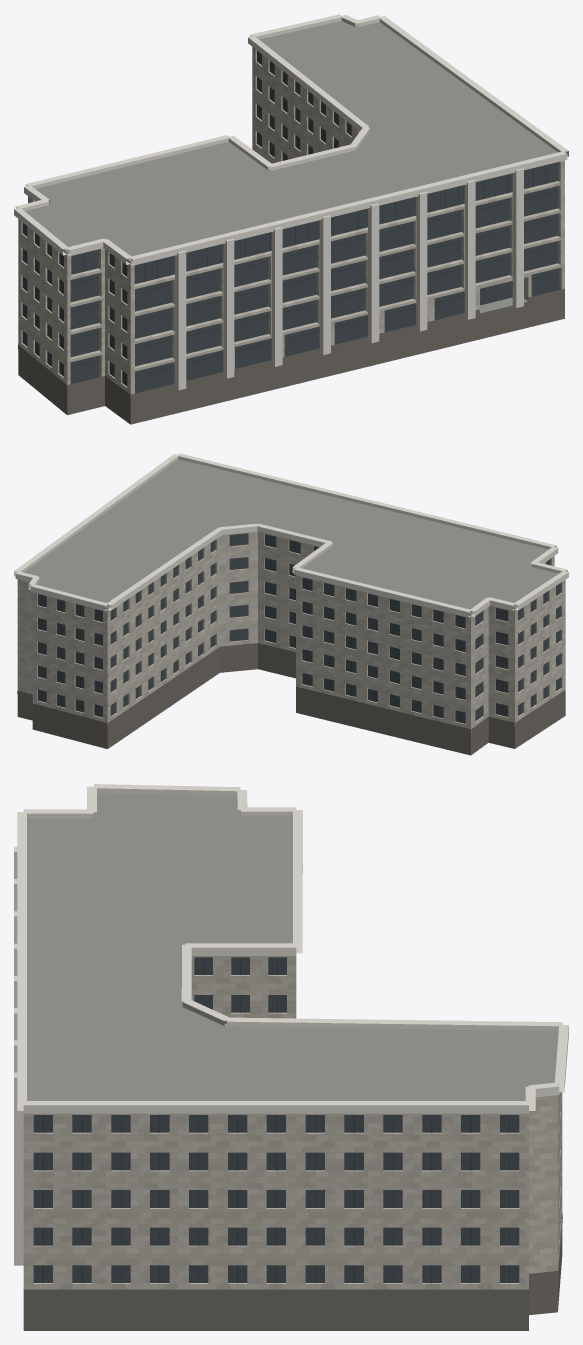
3 renders of one model, top to bottom at view 1: azimuth 30°, elevation 25°; view 2: azimuth 150°, elevation 25°; view 3: azimuth 270°, elevation 25°, orthographic. The views are drawn at different scales.
Visible parts, largest first — view 1: business__roof, business__glass, business__wall, business__trim, business__base, business__frame; view 2: business__wall, business__roof, business__glass, business__base, business__trim, business__frame; view 3: business__roof, business__wall, business__glass, business__trim, business__base, business__frame.
Boxes of the visible parts, x1,y1,x2,y2 form: business__roof: (25,21,557,313); business__glass: (22,51,559,393); business__wall: (18,47,564,398); business__trim: (14,14,568,390); business__base: (18,288,564,424); business__frame: (25,53,558,385); business__wall: (17,531,565,732); business__roof: (24,459,558,613); business__glass: (38,533,561,723); business__base: (17,643,565,755); business__trim: (14,453,568,617); business__frame: (42,534,558,722); business__roof: (27,793,558,1100); business__wall: (23,956,562,1289); business__glass: (33,957,519,1282); business__trim: (14,784,568,1265); business__base: (23,1213,562,1330); business__frame: (42,957,509,1283).
Bounding box in the file's own units: 69.63 × 23.1 × 50.85.
Materials: 7 (1 with a texture image).
